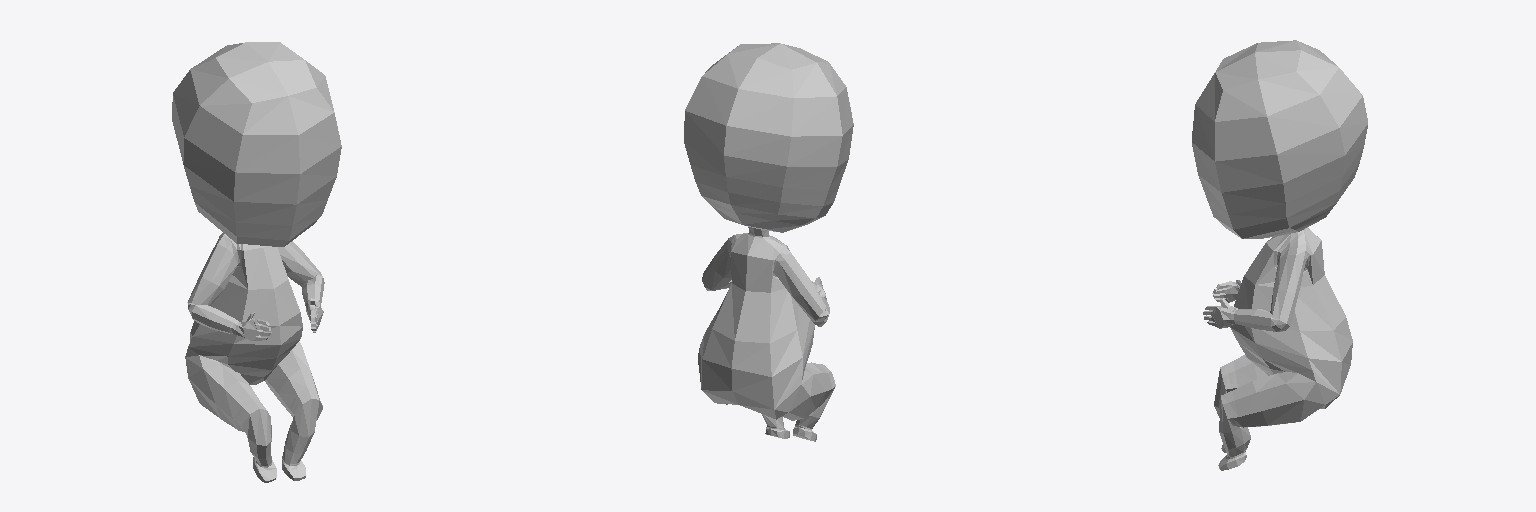
3 views of the same model, side by side, from view 1: azimuth 30°, elevation 25°; view 2: azimuth 150°, elevation 25°; view 3: azimuth 270°, elevation 25° (orthographic).
Visible parts, largest first — view 1: Chibibody_Cube.002; view 2: Chibibody_Cube.002; view 3: Chibibody_Cube.002.
Boxes of the visible parts, x1,y1,x2,y2 form: Chibibody_Cube.002: [172, 42, 341, 482]; Chibibody_Cube.002: [684, 43, 853, 441]; Chibibody_Cube.002: [1192, 40, 1367, 470].
Size of the model in its own units: 0.3295 by 0.8834 by 0.3445.